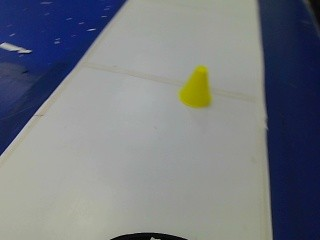cone: (173, 63, 215, 108)
